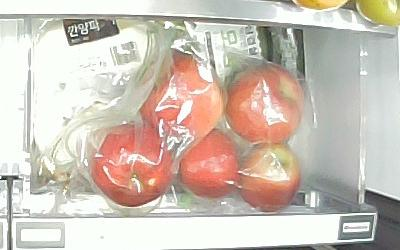apple_vinyl: (141, 48, 224, 139), (88, 123, 173, 206), (226, 61, 304, 146), (240, 144, 303, 214), (180, 128, 241, 198)
